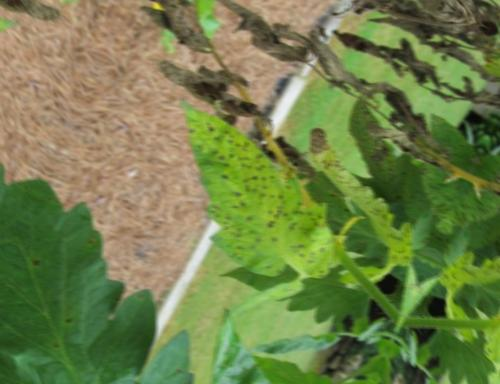Tomato Septoria leaf spot: (127, 94, 385, 310)
